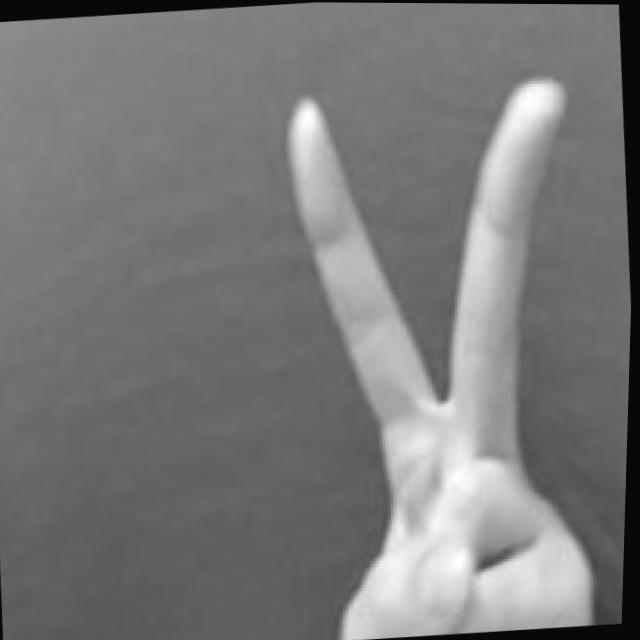V: (262, 72, 611, 640)
